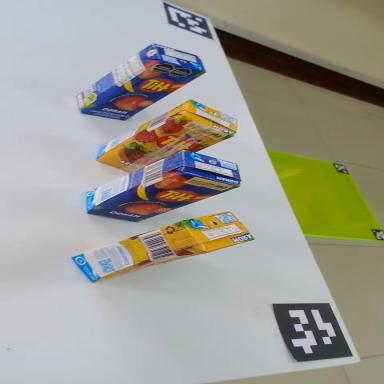HIT-MANGO: (78, 136, 243, 237), (70, 26, 207, 138)
HIT-MORA: (69, 204, 254, 287), (89, 87, 241, 187)
cara_F: (85, 157, 240, 237), (94, 101, 234, 189), (79, 45, 204, 138)
